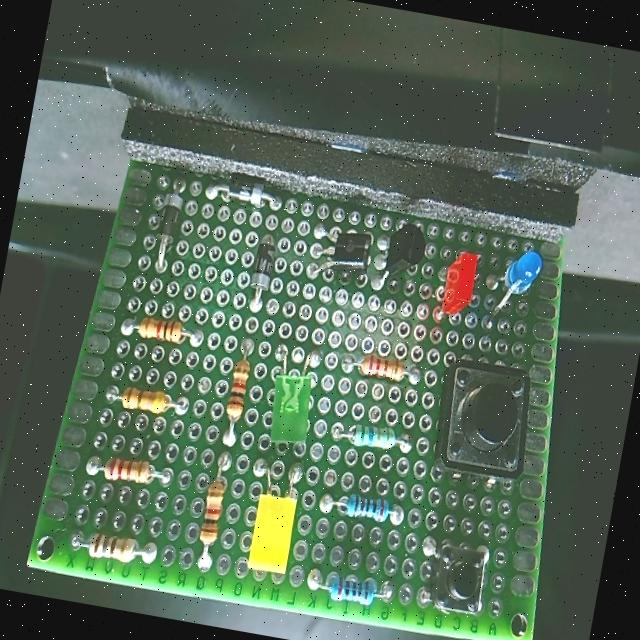diode: (144, 170, 194, 282), (238, 218, 288, 324), (197, 162, 287, 218)
led: (230, 448, 315, 580), (253, 330, 332, 455), (474, 234, 550, 343), (428, 237, 486, 329)
resistor: (188, 446, 245, 582), (74, 436, 181, 504), (208, 330, 266, 450), (54, 514, 164, 573), (302, 550, 402, 614), (312, 476, 412, 540), (117, 302, 210, 361), (336, 338, 428, 394), (98, 372, 199, 422), (329, 408, 418, 462)
switch: (420, 344, 544, 502), (410, 524, 502, 624)
transistor: (300, 208, 380, 289), (364, 211, 434, 300)
